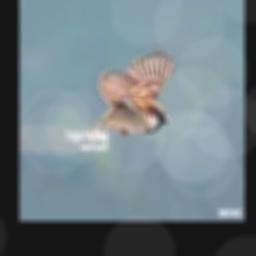Sparrow: (90, 49, 176, 138)
